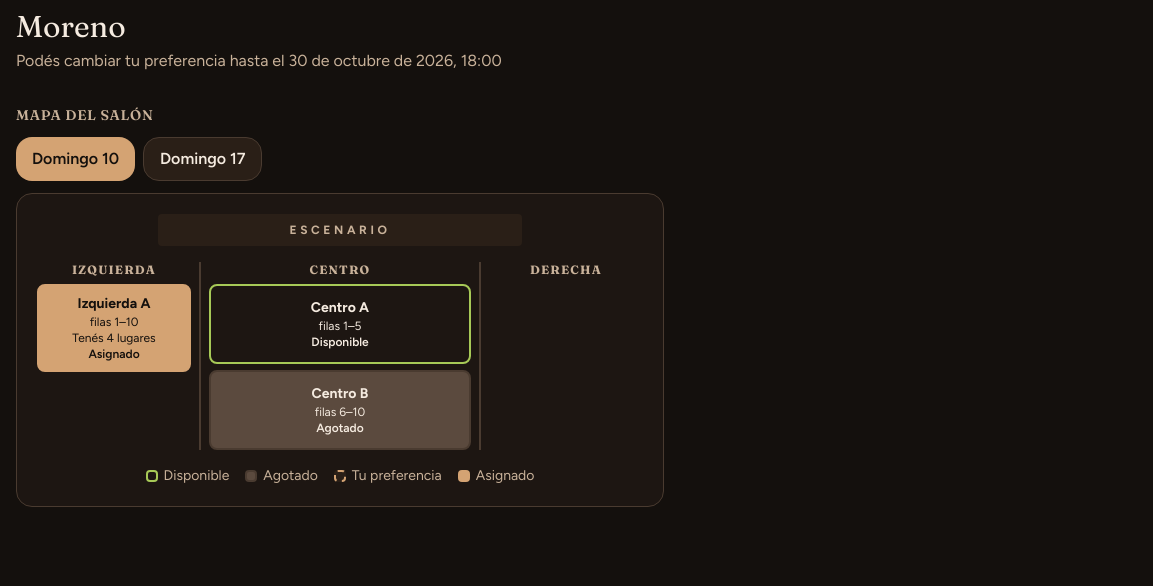
SedePanel › si el guardado falla revierte y avisa
This screenshot has width=1153, height=586.
Click the button "Centro A filas 1–5 Disponible".
click(340, 324)  # box [209, 284, 471, 364]
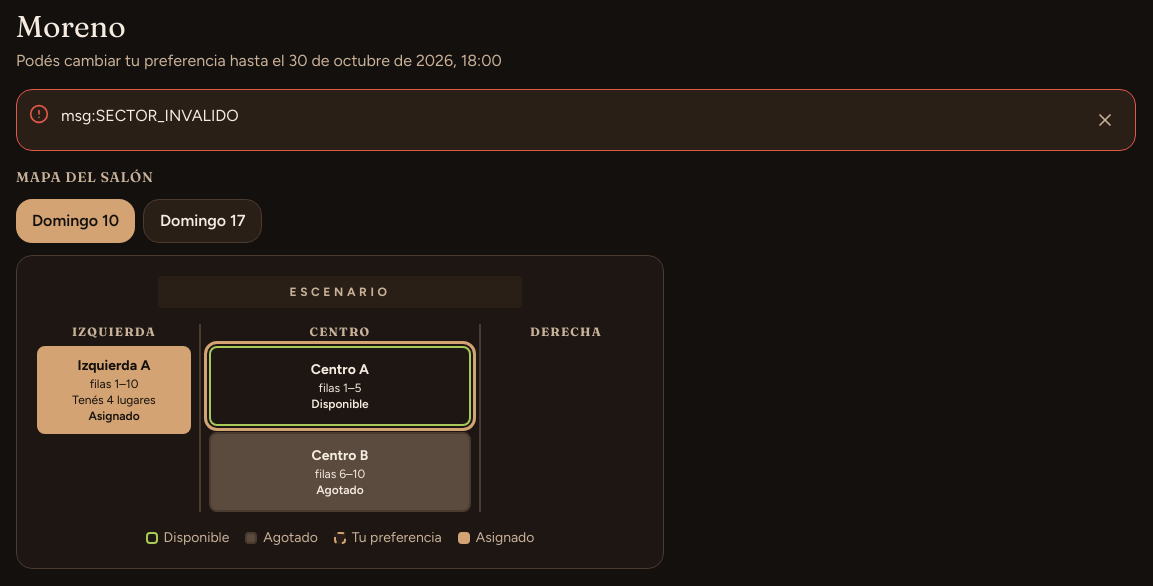
Check: the message reads "msg:SECTOR_INVALIDO", box [61, 106, 239, 125]
